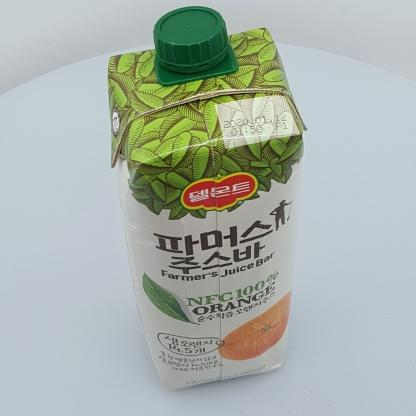------------1L: (108, 6, 308, 390)
